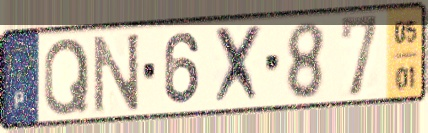6: (162, 29, 202, 108)
7: (338, 12, 381, 100)
8: (283, 19, 328, 102)
N: (91, 29, 142, 116)
Q: (41, 35, 91, 119)
X: (211, 21, 265, 109)
